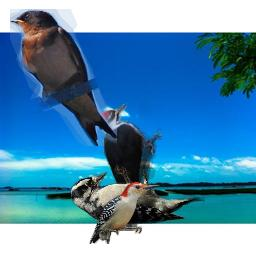Swallow: (10, 9, 117, 146)
Woodpecker: (90, 103, 162, 231), (71, 165, 205, 224), (89, 182, 160, 244)
